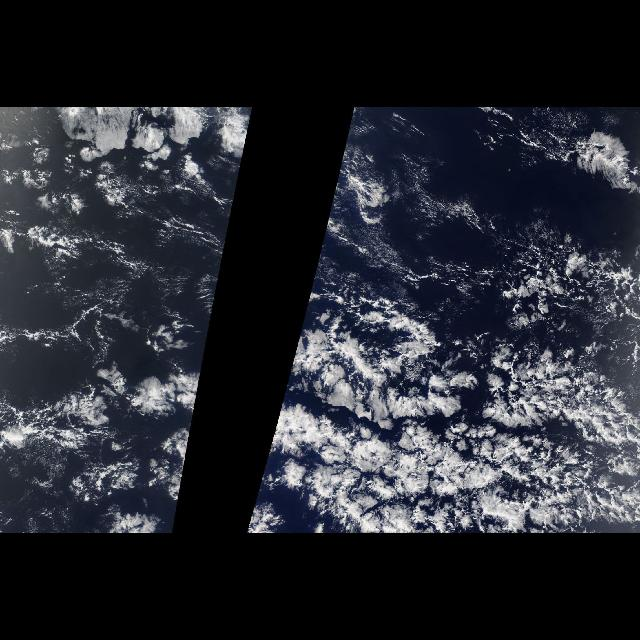Fish: (488, 224, 638, 443)
Flower: (247, 312, 625, 534), (0, 310, 214, 530)
